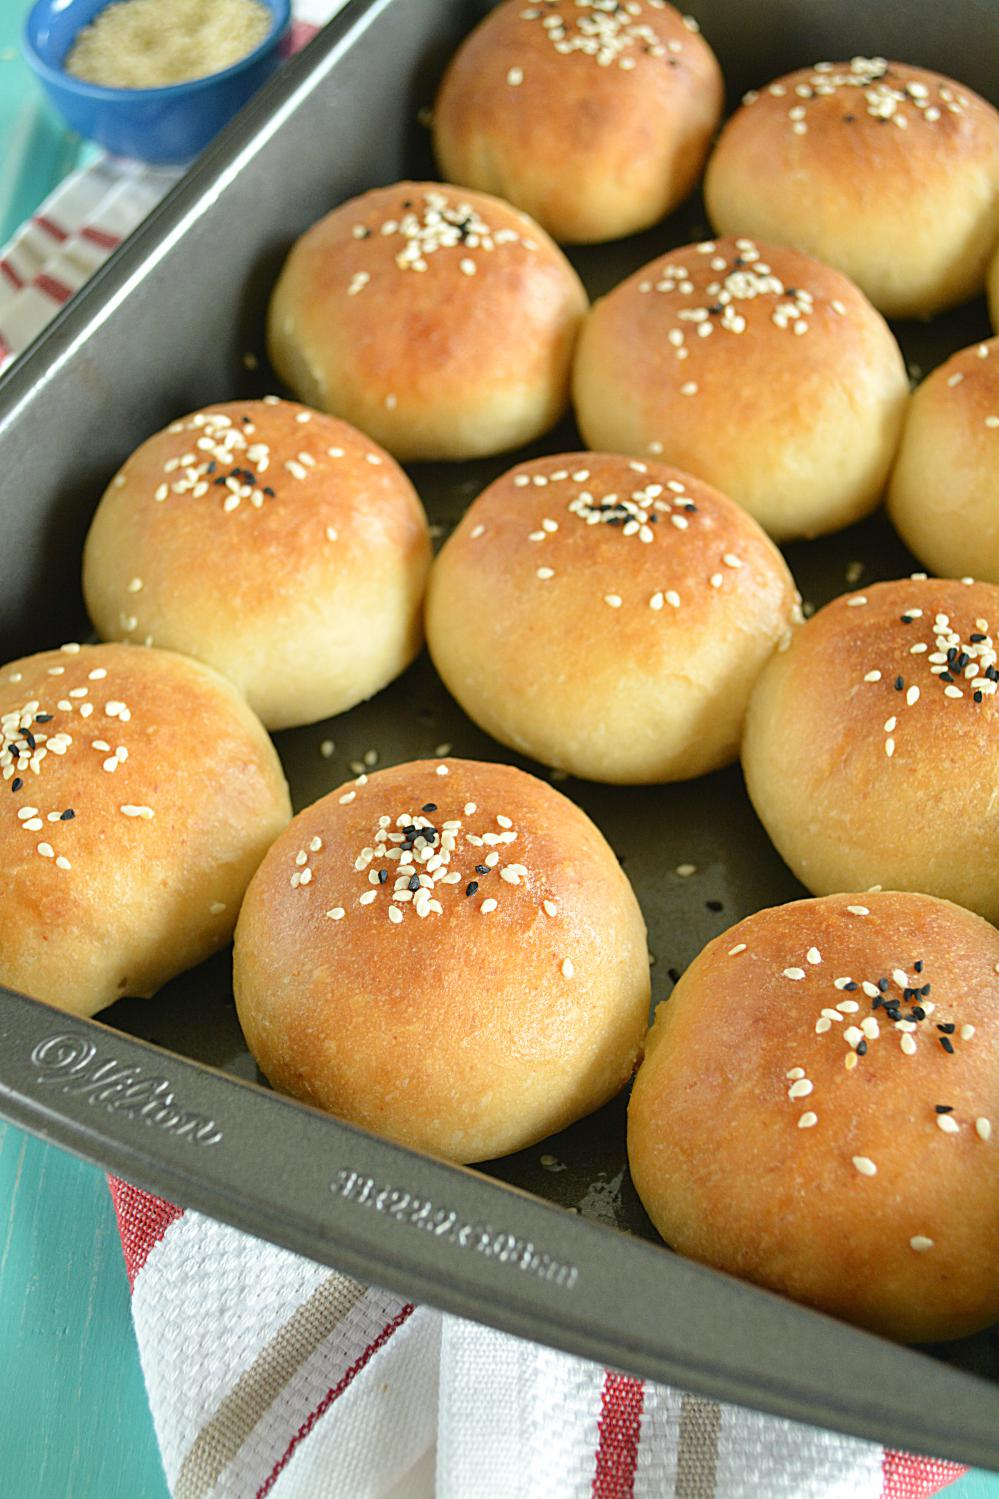hamburger_buns: (231, 717, 681, 1181), (421, 438, 840, 796), (562, 234, 922, 544)
